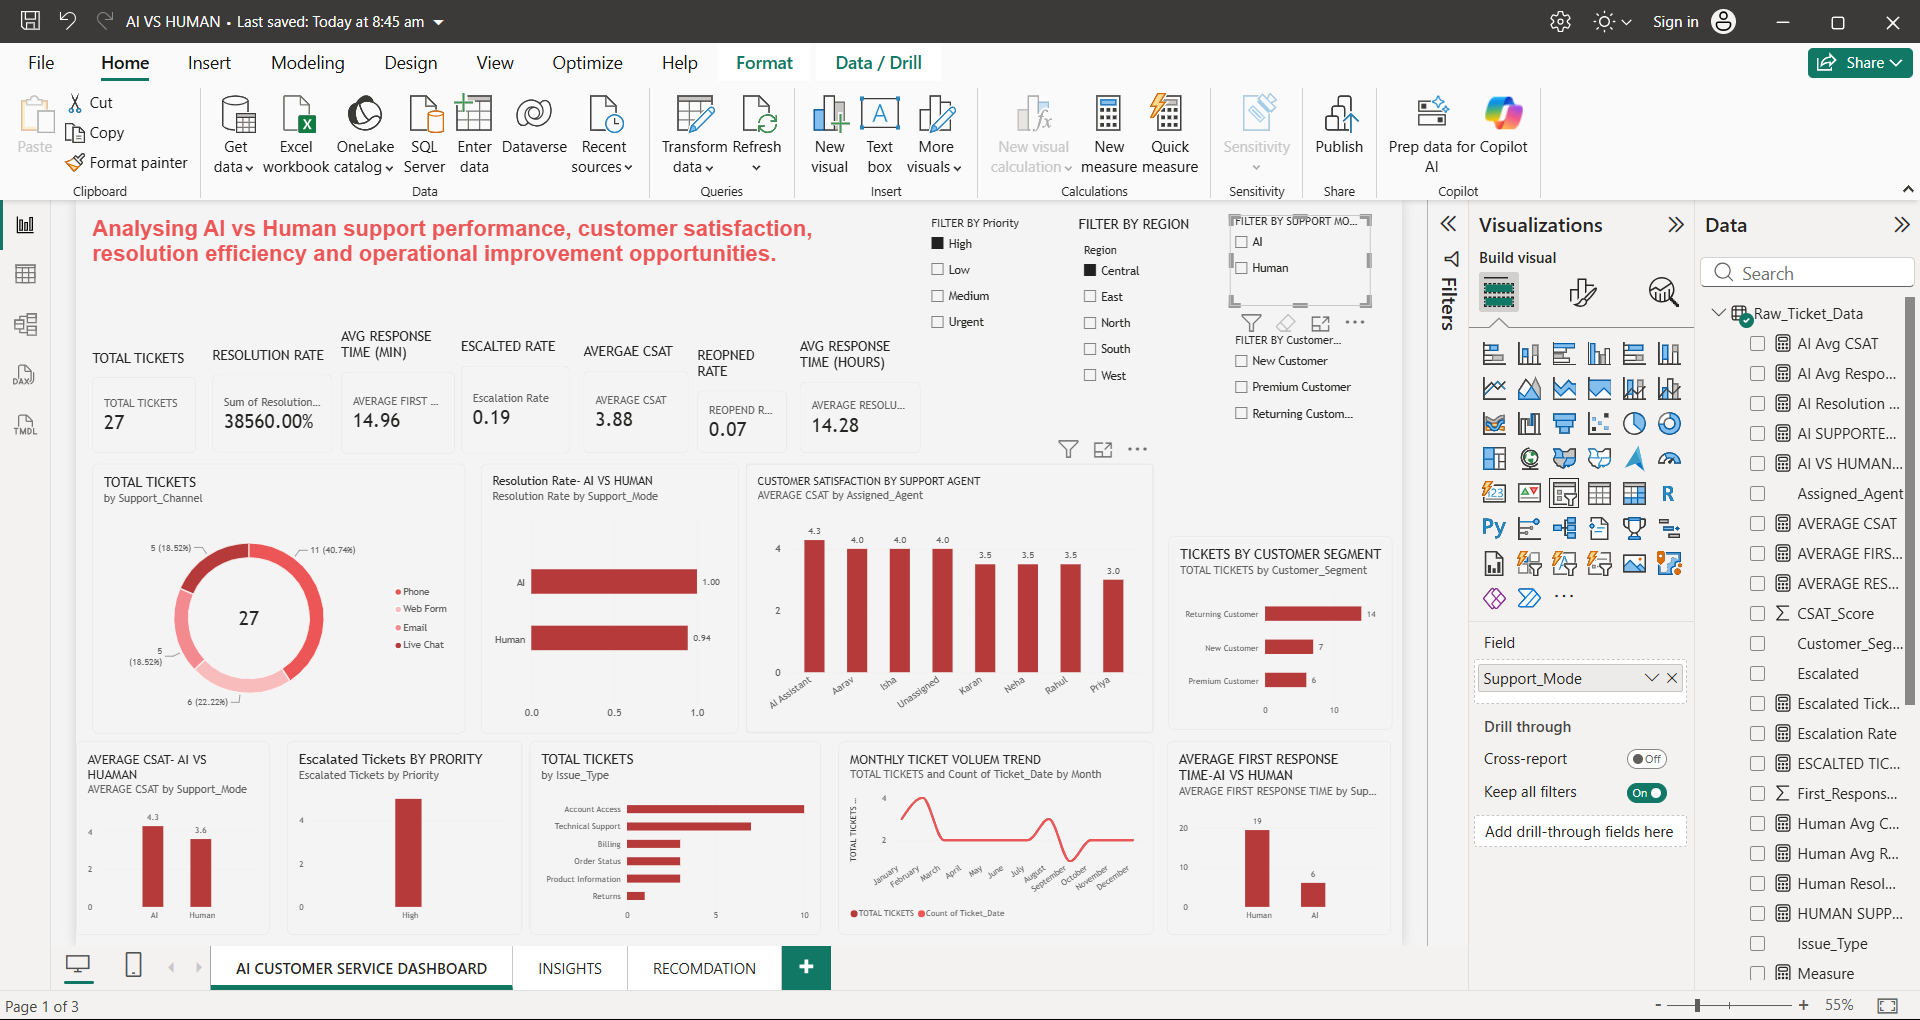

The page's visual inventory and layout, read from the dashboard file:
{"tool":"powerbi","page":{"name":"AI CUSTOMER SERVICE DASHBOARD","canvas":[1920,1080],"ordinal":0},"visuals":[{"type":"cardVisual","title":"TOTAL TICKETS","fields":{"Data":["Raw_Ticket_Data.TOTAL TICKETS"]},"box":[22.9,217.1,150,150],"z":0},{"type":"cardVisual","title":"RESOLUTION RATE","fields":{"Data":["Sum(Raw_Ticket_Data.Resolution_Time_Hours)"]},"box":[197.1,214.3,174.3,152.9],"z":1000},{"type":"cardVisual","title":"AVG RESPONSE TIME (MIN)","fields":{"Data":["Raw_Ticket_Data.AVERAGE FIRST RESPONSE TIME"]},"box":[384.3,185.7,165.7,181.4],"z":2000},{"type":"cardVisual","title":"AVG RESPONSE TIME (HOURS)","fields":{"Data":["Raw_Ticket_Data.AVERAGE RESOLUTION TIME"]},"box":[1047.1,200,175.7,165.7],"z":3000},{"type":"cardVisual","title":"AVERGAE CSAT","fields":{"Data":["Raw_Ticket_Data.AVERAGE CSAT"]},"box":[734.3,208.6,152.9,158.6],"z":4000},{"type":"cardVisual","title":"ESCALTED RATE","fields":{"Data":["Raw_Ticket_Data.Escalation Rate"]},"box":[557.1,200,157.1,167.1],"z":5000},{"type":"cardVisual","title":"REOPNED RATE","fields":{"Data":["Raw_Ticket_Data.REOPEND RATE"]},"box":[900,214.3,130,152.9],"z":6000},{"type":"clusteredBarChart","title":"Resolution Rate- AI VS HUMAN","fields":{"Category":["Raw_Ticket_Data.Support_Mode"],"Y":["Raw_Ticket_Data.Resolution Rate"]},"box":[587.1,381.4,372.9,390],"z":7000},{"type":"clusteredColumnChart","title":"AVERAGE CSAT- AI VS HUAMAN","fields":{"Category":["Raw_Ticket_Data.Support_Mode"],"Y":["Raw_Ticket_Data.AVERAGE CSAT"]},"box":[12.9,782.9,280,280],"z":8000},{"type":"lineChart","title":"MONTHLY TICKET VOLUEM TREND","fields":{"Category":["Raw_Ticket_Data.Ticket_Date.Variation.Date Hierarchy.Month"],"Y":["Raw_Ticket_Data.TOTAL TICKETS","CountNonNull(Raw_Ticket_Data.Ticket_Date)"]},"box":[1104.3,782.9,455.7,280],"z":9000},{"type":"clusteredBarChart","fields":{"Category":["Raw_Ticket_Data.Issue_Type"],"Y":["Raw_Ticket_Data.TOTAL TICKETS"]},"box":[657.1,782.9,421.4,280],"z":10000},{"type":"donutChart","fields":{"Category":["Raw_Ticket_Data.Support_Channel"],"Y":["Raw_Ticket_Data.TOTAL TICKETS"]},"box":[22.9,381.4,540,390],"z":11000},{"type":"clusteredColumnChart","title":"CUSTOMER SATISFACTION BY SUPPORT AGENT","fields":{"Category":["Raw_Ticket_Data.Assigned_Agent"],"Y":["Raw_Ticket_Data.AVERAGE CSAT"]},"box":[970,381.4,590,390],"z":12000},{"type":"clusteredColumnChart","title":"Escalated Tickets BY PRORITY","fields":{"Category":["Raw_Ticket_Data.Priority"],"Y":["Raw_Ticket_Data.Escalated Tickets"]},"box":[305.7,782.9,340,280],"z":13000},{"type":"clusteredColumnChart","title":"AVERAGE FIRST RESPONSE TIME-AI VS HUMAN","fields":{"Category":["Raw_Ticket_Data.Support_Mode"],"Y":["Raw_Ticket_Data.AVERAGE FIRST RESPONSE TIME"]},"box":[1580,782.9,324.3,280],"z":14000},{"type":"clusteredBarChart","title":"TICKETS BY CUSTOMER SEGMENT","fields":{"Category":["Raw_Ticket_Data.Customer_Segment"],"Y":["Raw_Ticket_Data.TOTAL TICKETS"]},"box":[1581.4,487.1,324.3,280],"z":15000},{"type":"slicer","title":"FILTER BY REGION","fields":{"Values":["Raw_Ticket_Data.Region"]},"box":[1451.4,24.3,188.6,341.4],"z":16000},{"type":"slicer","fields":{"Values":["Raw_Ticket_Data.Support_Mode"]},"box":[1670,22,204,132],"z":17000},{"type":"slicer","fields":{"Values":["Raw_Ticket_Data.Priority"]},"box":[1230,22.9,221.4,342.9],"z":18000},{"type":"slicer","fields":{"Values":["Raw_Ticket_Data.Customer_Segment"]},"box":[1670,194.3,178.6,157.1],"z":19000},{"type":"textbox","box":[23.3,23.3,1198.3,161.7],"z":20000}]}

Visuals, with their boxes on the page's 1920x1080 design canvas (x1, y1, x2, y2). These are canvas units, not pixel positions in the 1920x1020 screenshot, which may show the page scaled, cropped or inside an application window:
"TOTAL TICKETS" cardVisual: <box>23,217,173,367</box>
"RESOLUTION RATE" cardVisual: <box>197,214,371,367</box>
"AVG RESPONSE TIME (MIN)" cardVisual: <box>384,186,550,367</box>
"AVG RESPONSE TIME (HOURS)" cardVisual: <box>1047,200,1223,366</box>
"AVERGAE CSAT" cardVisual: <box>734,209,887,367</box>
"ESCALTED RATE" cardVisual: <box>557,200,714,367</box>
"REOPNED RATE" cardVisual: <box>900,214,1030,367</box>
"Resolution Rate- AI VS HUMAN" clusteredBarChart: <box>587,381,960,771</box>
"AVERAGE CSAT- AI VS HUAMAN" clusteredColumnChart: <box>13,783,293,1063</box>
"MONTHLY TICKET VOLUEM TREND" lineChart: <box>1104,783,1560,1063</box>
clusteredBarChart - Raw_Ticket_Data.Issue_Type x Raw_Ticket_Data.TOTAL TICKETS: <box>657,783,1078,1063</box>
donutChart - Raw_Ticket_Data.Support_Channel x Raw_Ticket_Data.TOTAL TICKETS: <box>23,381,563,771</box>
"CUSTOMER SATISFACTION BY SUPPORT AGENT" clusteredColumnChart: <box>970,381,1560,771</box>
"Escalated Tickets BY PRORITY" clusteredColumnChart: <box>306,783,646,1063</box>
"AVERAGE FIRST RESPONSE TIME-AI VS HUMAN" clusteredColumnChart: <box>1580,783,1904,1063</box>
"TICKETS BY CUSTOMER SEGMENT" clusteredBarChart: <box>1581,487,1906,767</box>
"FILTER BY REGION" slicer: <box>1451,24,1640,366</box>
slicer - Raw_Ticket_Data.Support_Mode: <box>1670,22,1874,154</box>
slicer - Raw_Ticket_Data.Priority: <box>1230,23,1451,366</box>
slicer - Raw_Ticket_Data.Customer_Segment: <box>1670,194,1849,351</box>
textbox: <box>23,23,1222,185</box>
